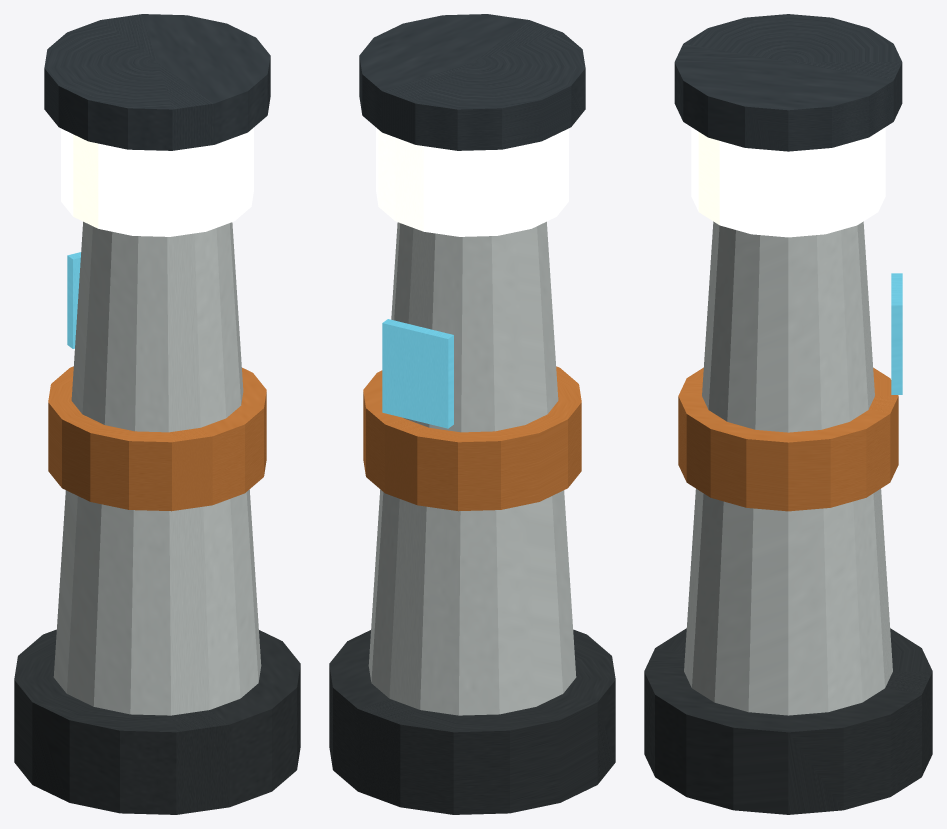
File: path_beacon.glb
3 renders of one model, left to right at view 1: azimuth 30°, elevation 25°; view 2: azimuth 150°, elevation 25°; view 3: azimuth 270°, elevation 25°, orthographic.
Parts seen in each view (by area): view 1: beacon_post_ceramic, base_foot_rubber, lamp_cap_graphite, beacon_belt_orange, light_ring_lamp, beacon_marker_screen; view 2: beacon_post_ceramic, base_foot_rubber, lamp_cap_graphite, beacon_belt_orange, light_ring_lamp, beacon_marker_screen; view 3: beacon_post_ceramic, base_foot_rubber, lamp_cap_graphite, beacon_belt_orange, light_ring_lamp, beacon_marker_screen.
Boxes of the visible parts, bbox=[...] form: beacon_post_ceramic: bbox=[53, 221, 261, 715]; base_foot_rubber: bbox=[14, 629, 300, 814]; lamp_cap_graphite: bbox=[44, 14, 270, 150]; beacon_belt_orange: bbox=[48, 366, 266, 511]; light_ring_lamp: bbox=[61, 127, 253, 236]; beacon_marker_screen: bbox=[67, 252, 80, 348]; beacon_post_ceramic: bbox=[368, 221, 576, 715]; base_foot_rubber: bbox=[329, 629, 615, 814]; lamp_cap_graphite: bbox=[359, 14, 585, 150]; beacon_belt_orange: bbox=[363, 366, 581, 511]; light_ring_lamp: bbox=[376, 127, 568, 236]; beacon_marker_screen: bbox=[382, 319, 453, 428]; beacon_post_ceramic: bbox=[684, 221, 892, 715]; base_foot_rubber: bbox=[644, 628, 932, 814]; lamp_cap_graphite: bbox=[674, 14, 902, 151]; beacon_belt_orange: bbox=[678, 367, 898, 511]; light_ring_lamp: bbox=[691, 127, 885, 237]; beacon_marker_screen: bbox=[891, 273, 902, 394].
Bounding box in the file's own units: 0.38 × 1 × 0.38.
Materials: 6 (6 with a texture image).
